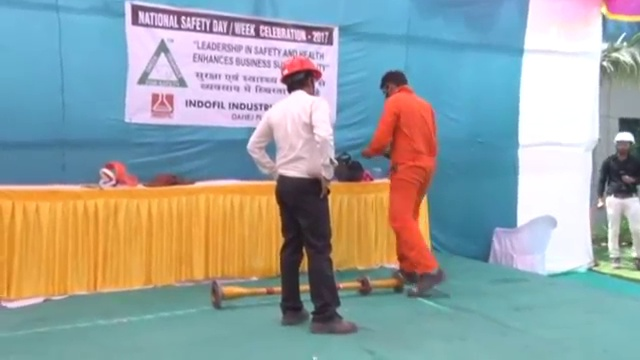helmet: (278, 54, 322, 84), (611, 130, 636, 148)
helmet_off: (376, 70, 407, 97)
helmet_on: (279, 53, 320, 100), (611, 130, 636, 159)
person: (246, 55, 357, 331), (361, 71, 448, 295), (597, 129, 640, 265)
